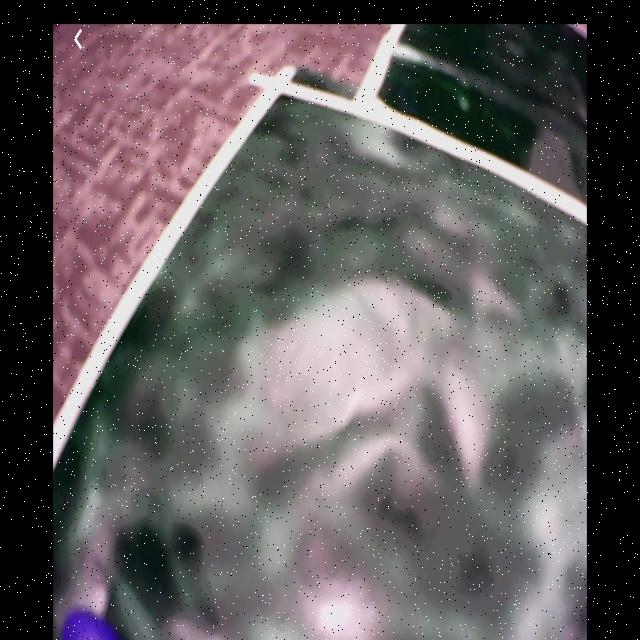ball: (61, 611, 115, 640)
